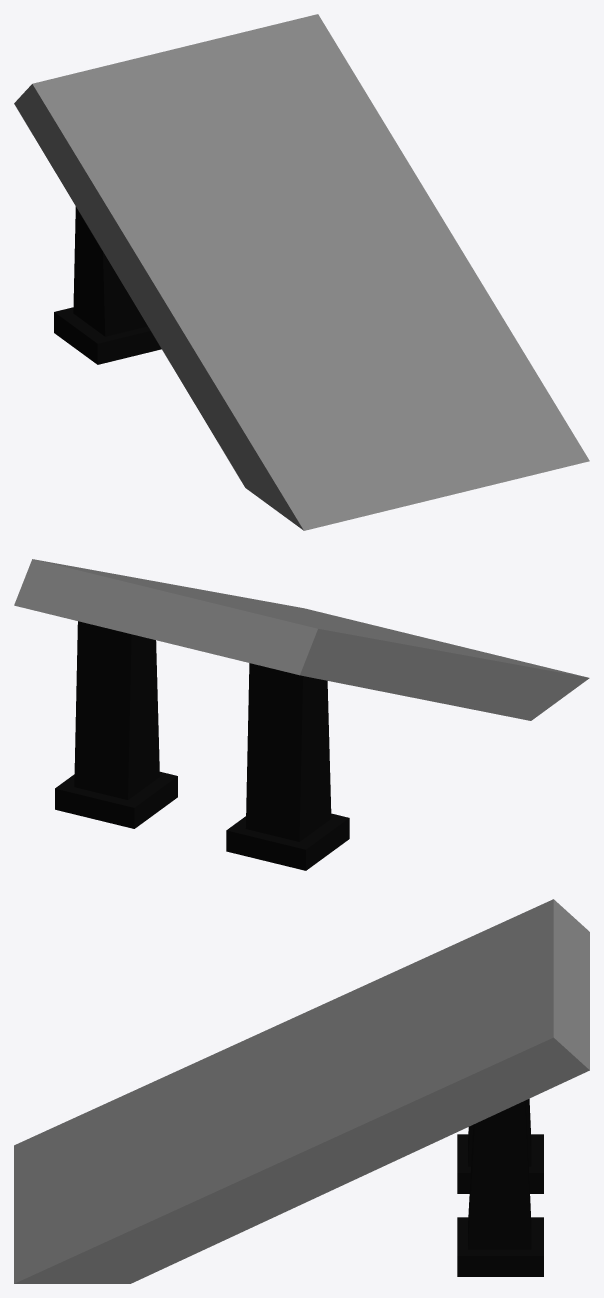
The model's file is rmp.obj.
3 views of the same model, one above another, from view 1: azimuth 30°, elevation 25°; view 2: azimuth 150°, elevation 25°; view 3: azimuth 270°, elevation 25° (orthographic).
Parts seen in each view (by area): view 1: Cube, Cube.002; view 2: Cube.002, Cube; view 3: Cube, Cube.002.
Part boxes in pixels (x1,y1,x2,y2): Cube: [14, 14, 589, 530]; Cube.002: [54, 206, 161, 364]; Cube.002: [55, 621, 349, 870]; Cube: [14, 559, 589, 720]; Cube: [14, 899, 589, 1283]; Cube.002: [457, 1098, 543, 1276].
Size of the model in its own units: 2 by 1.67 by 3.52.
2 materials, 2 textured.
